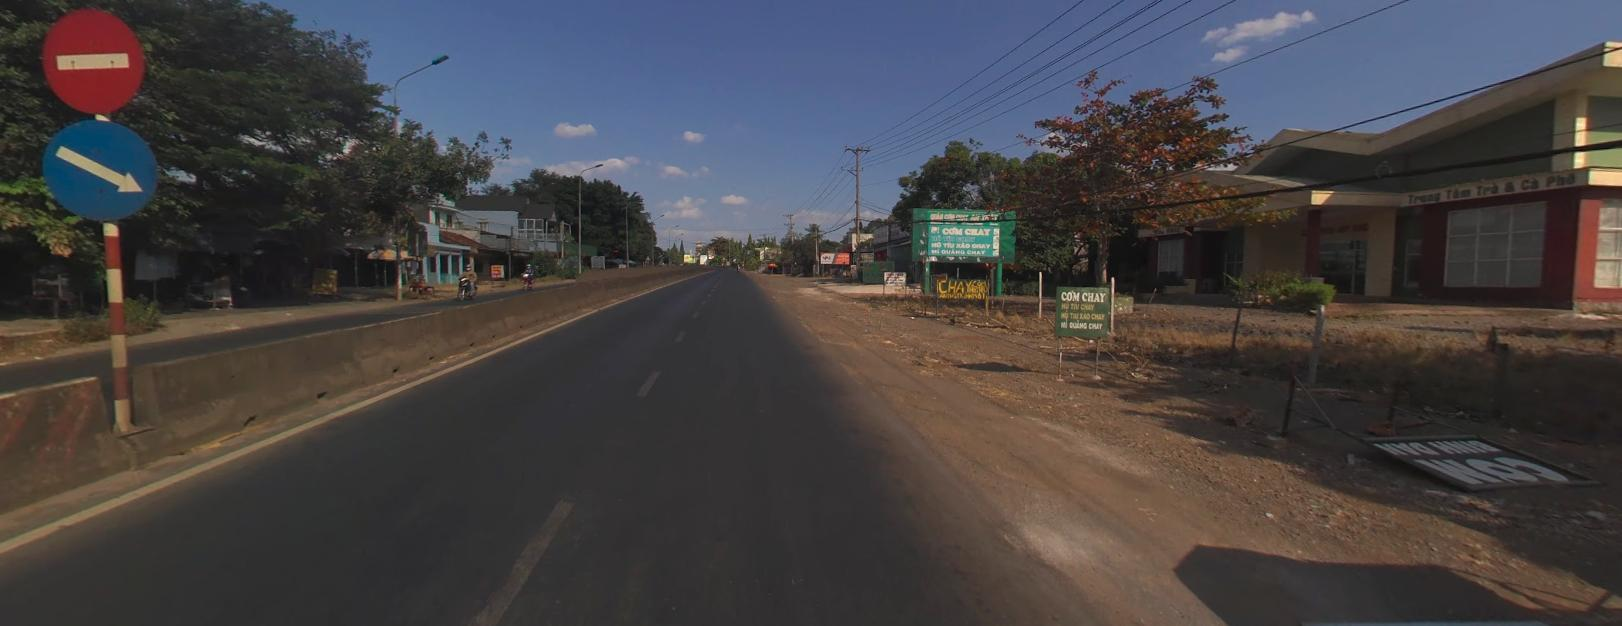Cam nguoc chieu: (41, 6, 147, 113)
Hieu lenh: (41, 119, 159, 220)
